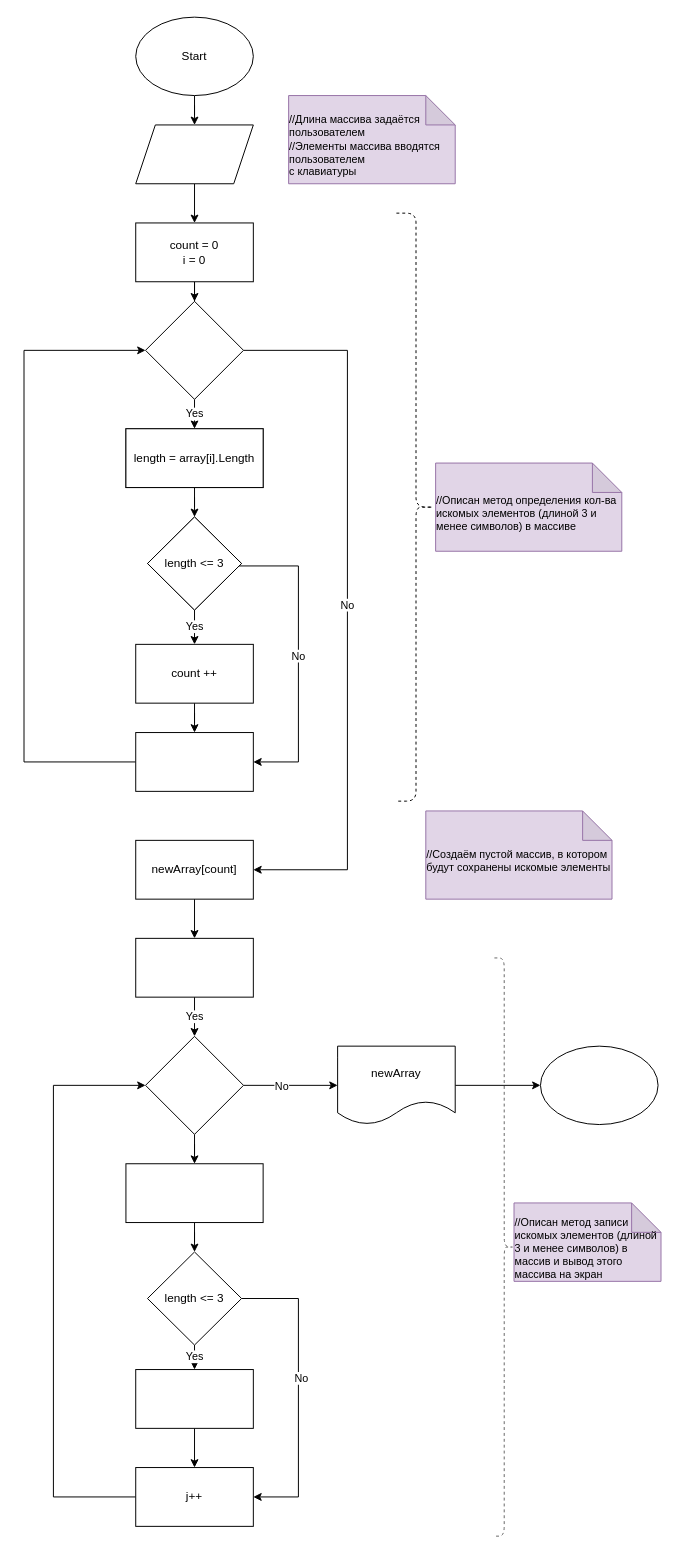
This 678x1553 diagram has some shape labels left out. The shapes that lost their labels are listed below. From the top down, each one's centre as x and y in pixels, then its label:
At (x=194, y=154): "size array[size]".
At (x=194, y=349): "i < array.Length".
At (x=194, y=761): "i++".
At (x=194, y=967): "n = 0 j = 0".
At (x=194, y=1084): "j < array.Length".
At (x=598, y=1085): "End".
At (x=194, y=1193): "length = array[j].Length".
At (x=194, y=1398): "newArray[n] = array[j] n++".
